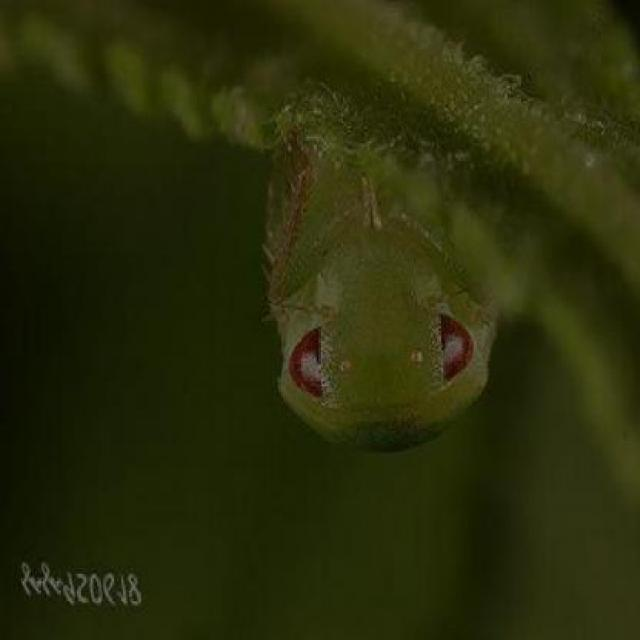green-leafhopper: (258, 148, 516, 444)
